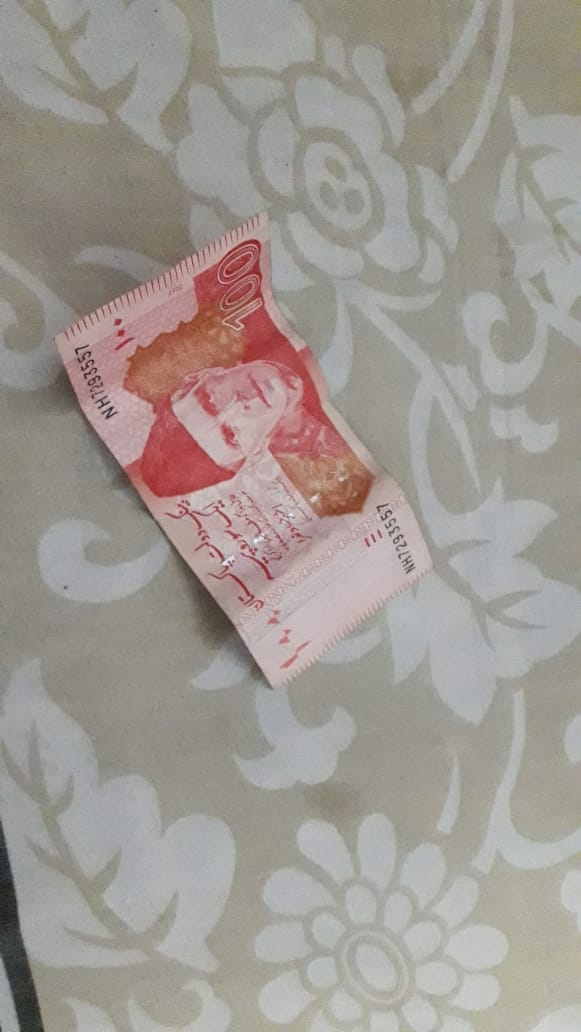100 rupee: (53, 202, 468, 738)
